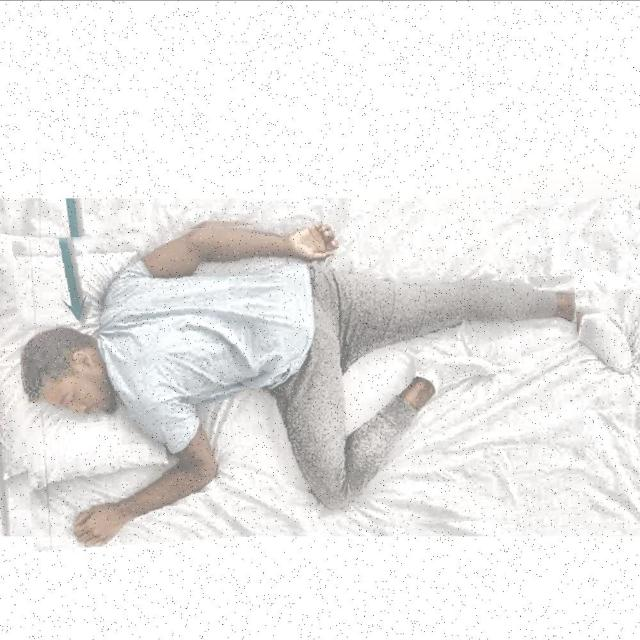Not_Supine: (21, 223, 576, 547)
